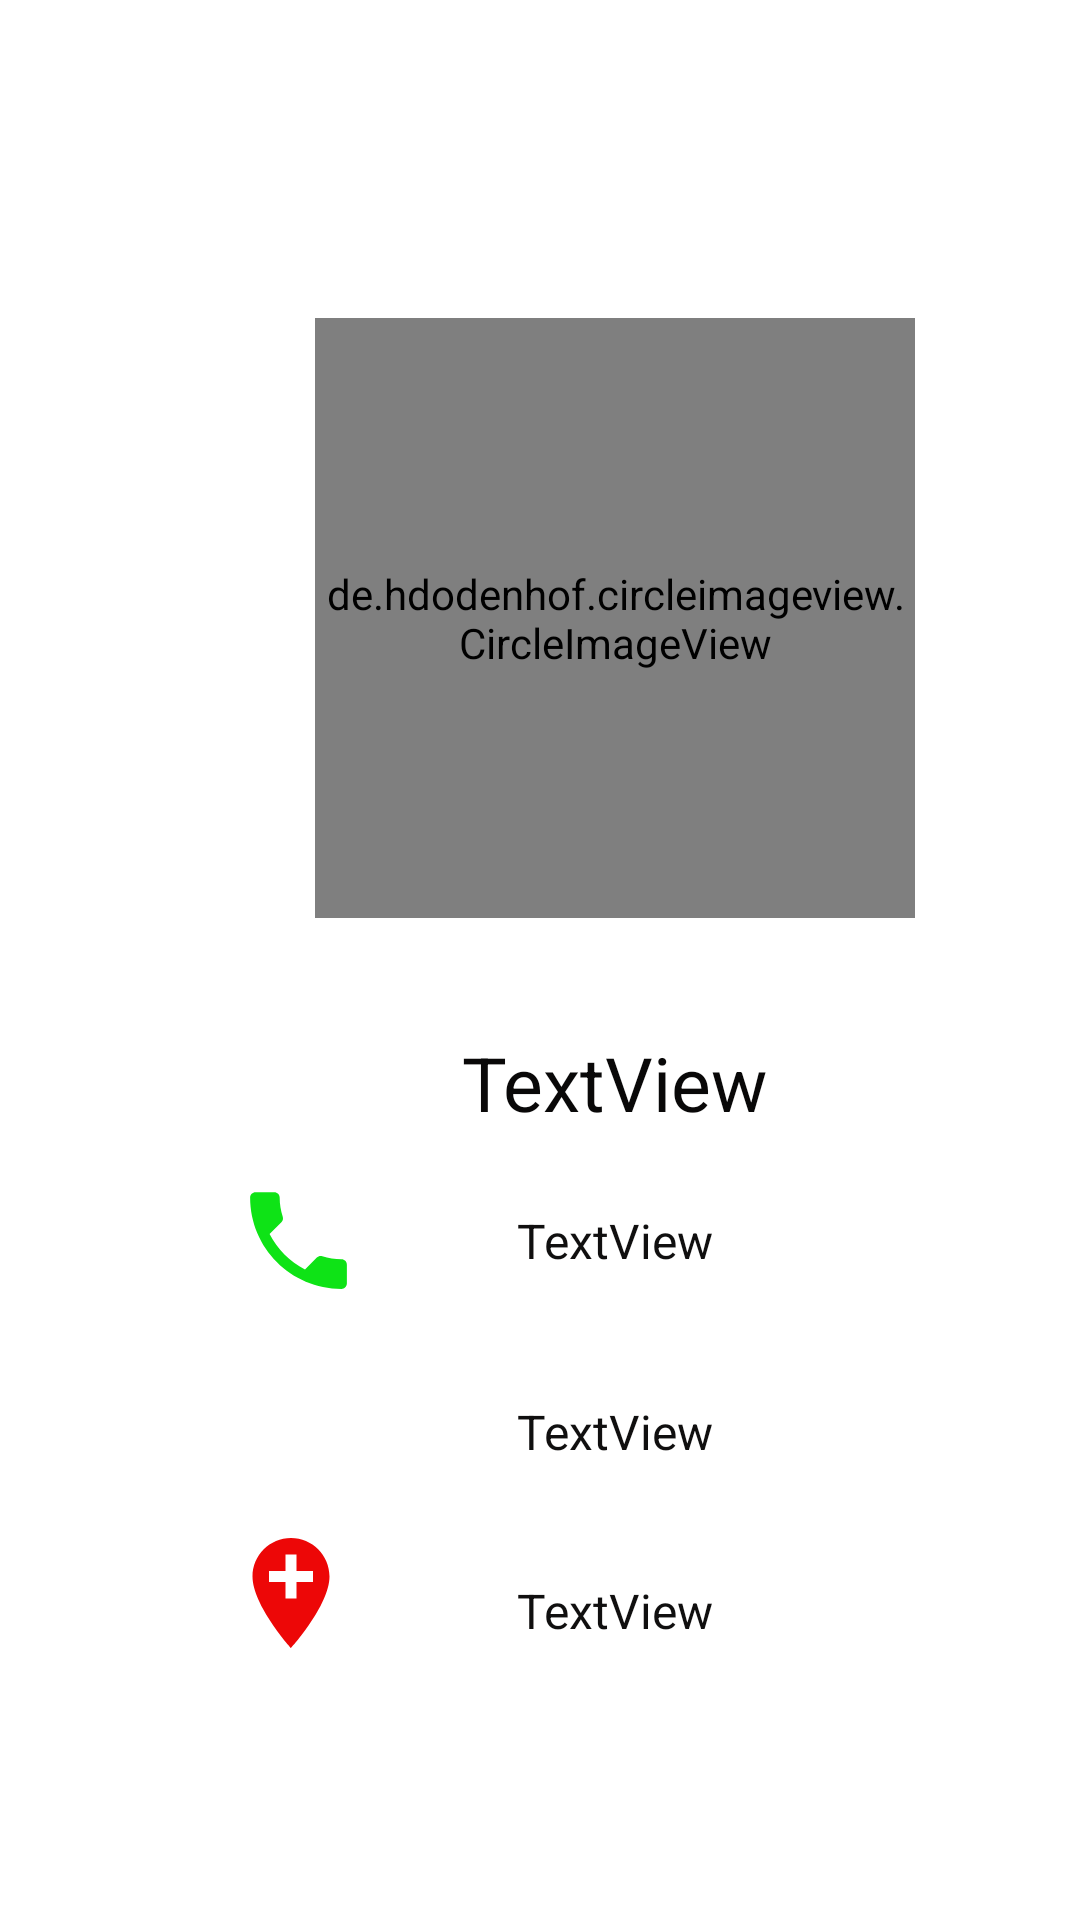

Where icons sit on this 1080 × 1920 app screen, as BBox(x1, y1, x2, y2):
add location: BBox(252, 1538, 330, 1648)
phone: BBox(250, 1192, 347, 1289)
